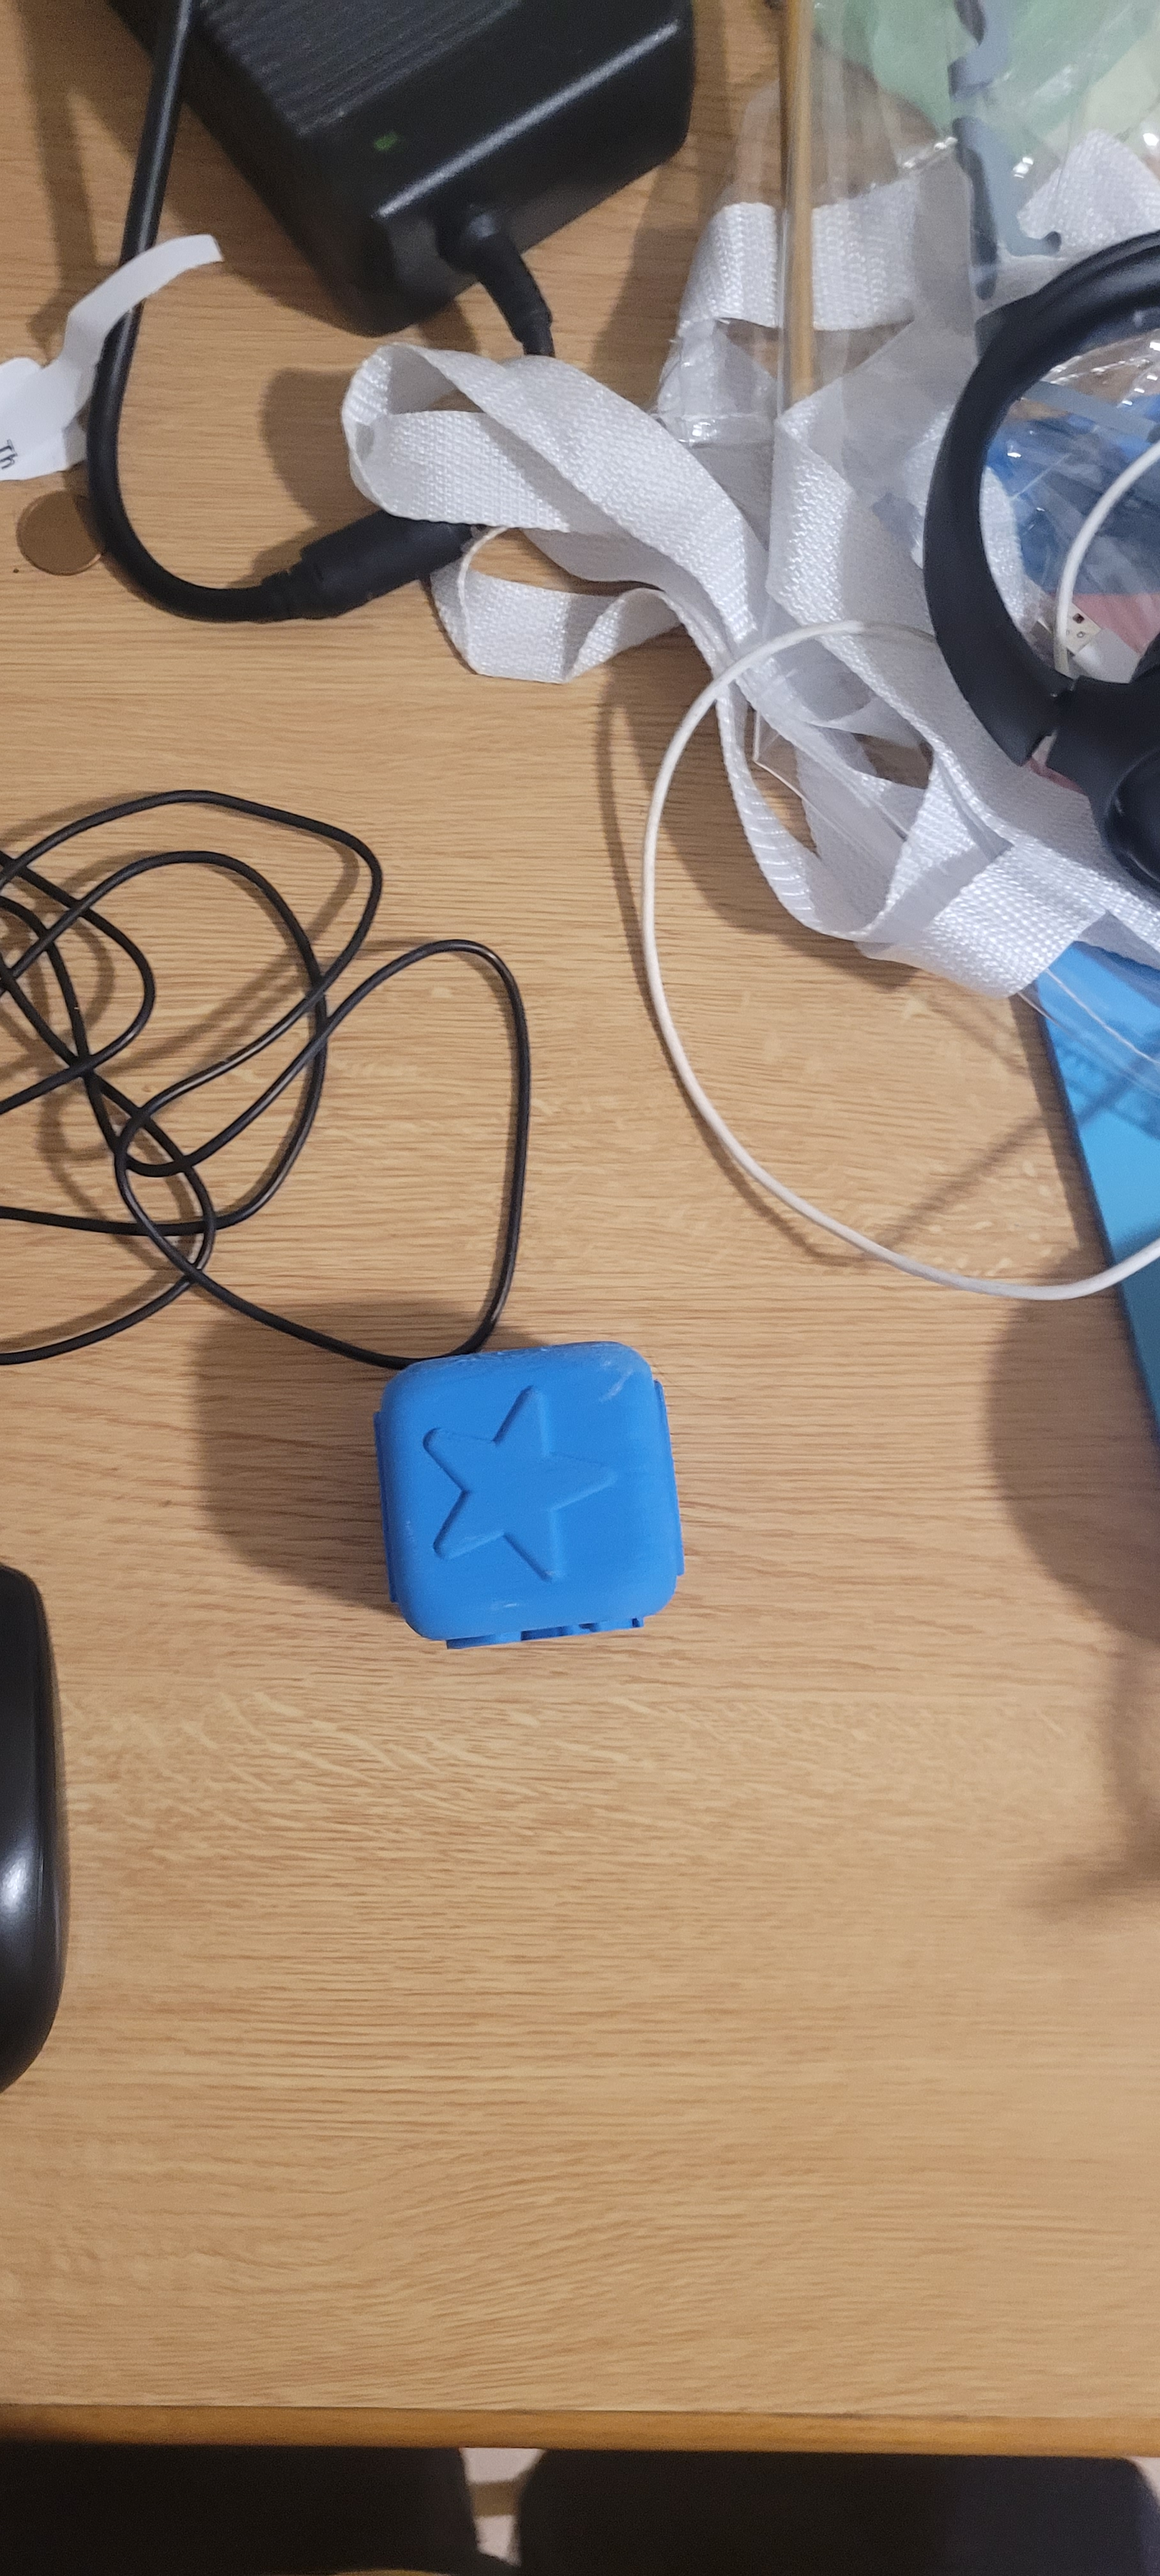Star: (403, 1380, 641, 1613)
